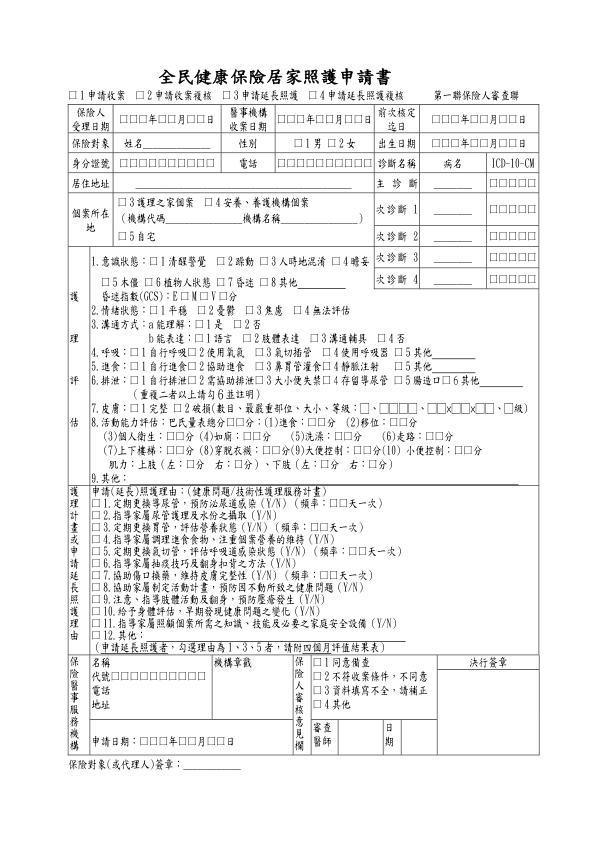check_box: (64, 86, 77, 101), (218, 88, 231, 101), (306, 89, 320, 100), (132, 87, 143, 99)
input: (183, 759, 241, 773)
table: (63, 102, 545, 758)
text: (153, 65, 395, 88), (67, 757, 183, 771), (433, 87, 519, 102), (319, 88, 405, 102), (231, 89, 301, 102), (147, 88, 212, 101), (77, 85, 126, 101)
